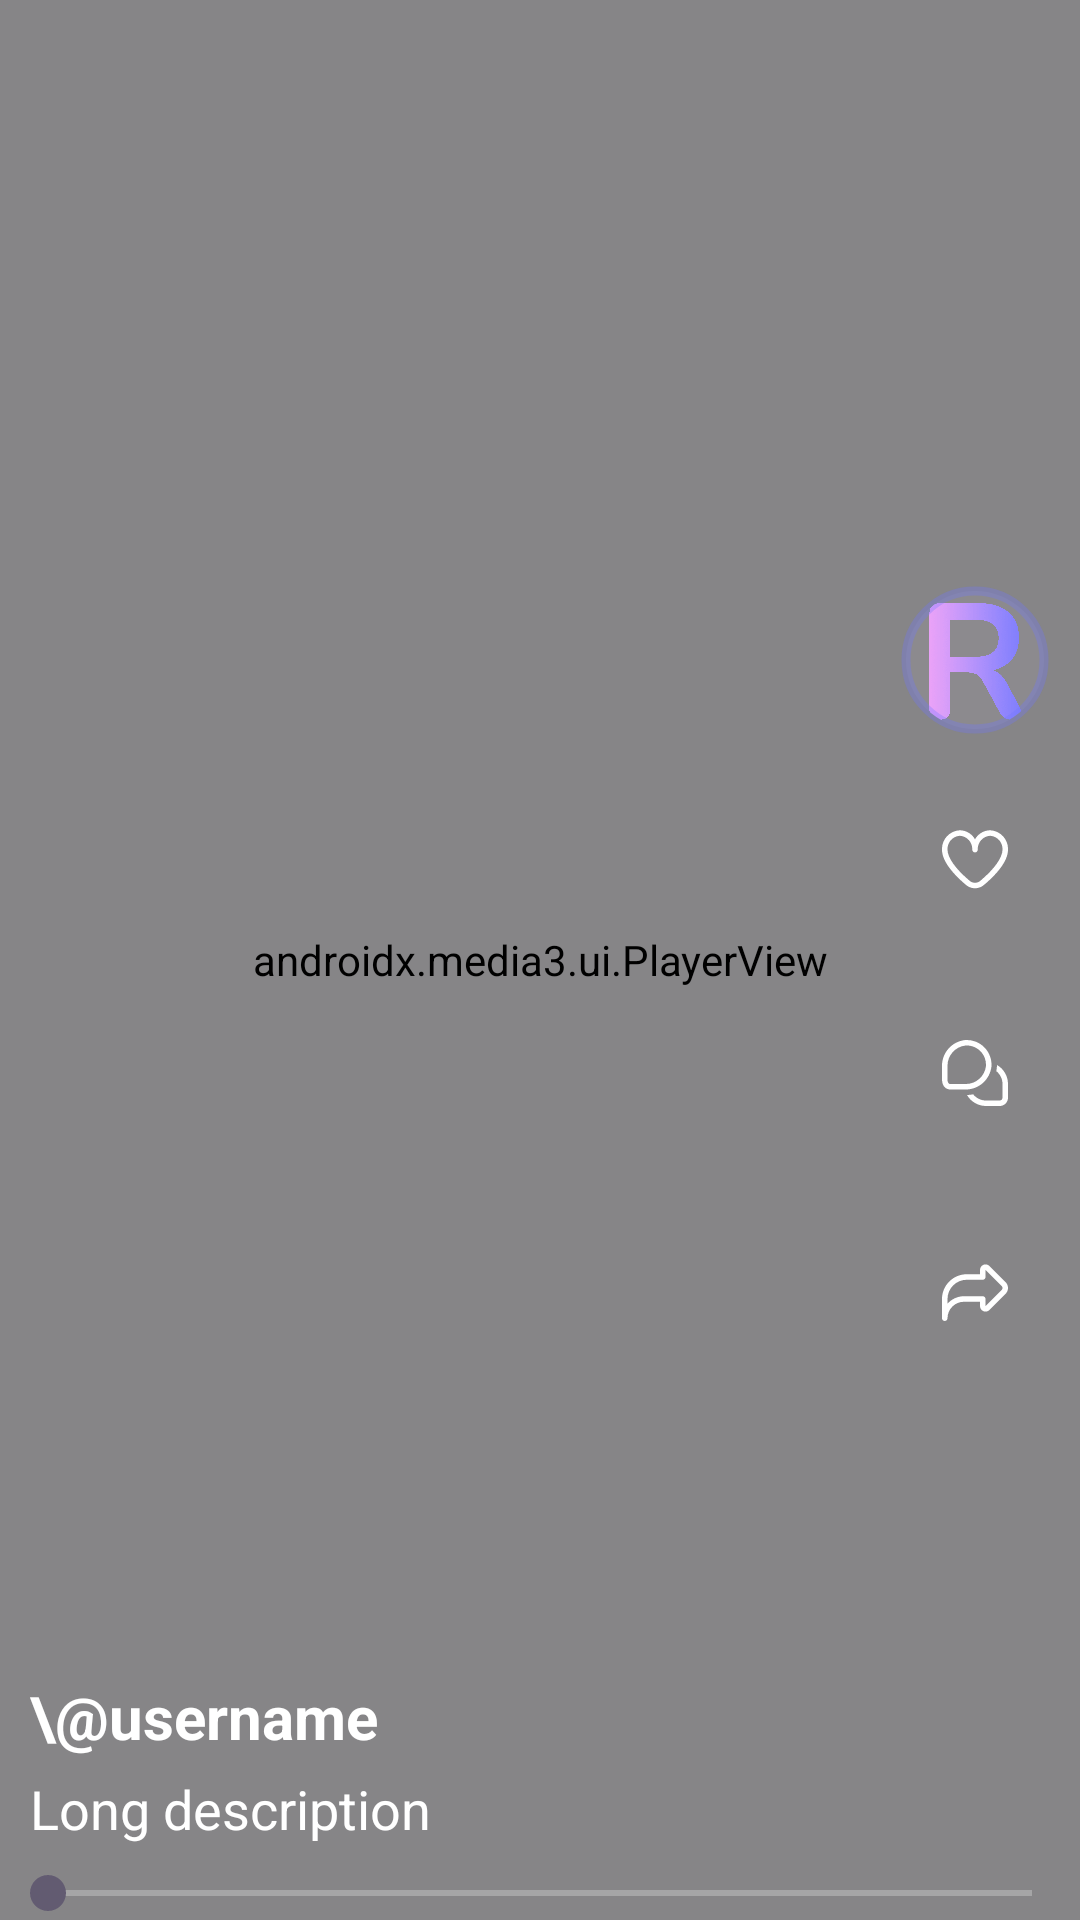

Icon click points for this 1080 x 1920 phone screenshot, format [x,y]:
like: [975,859]
messages: [975,1073]
repost: [975,1292]
